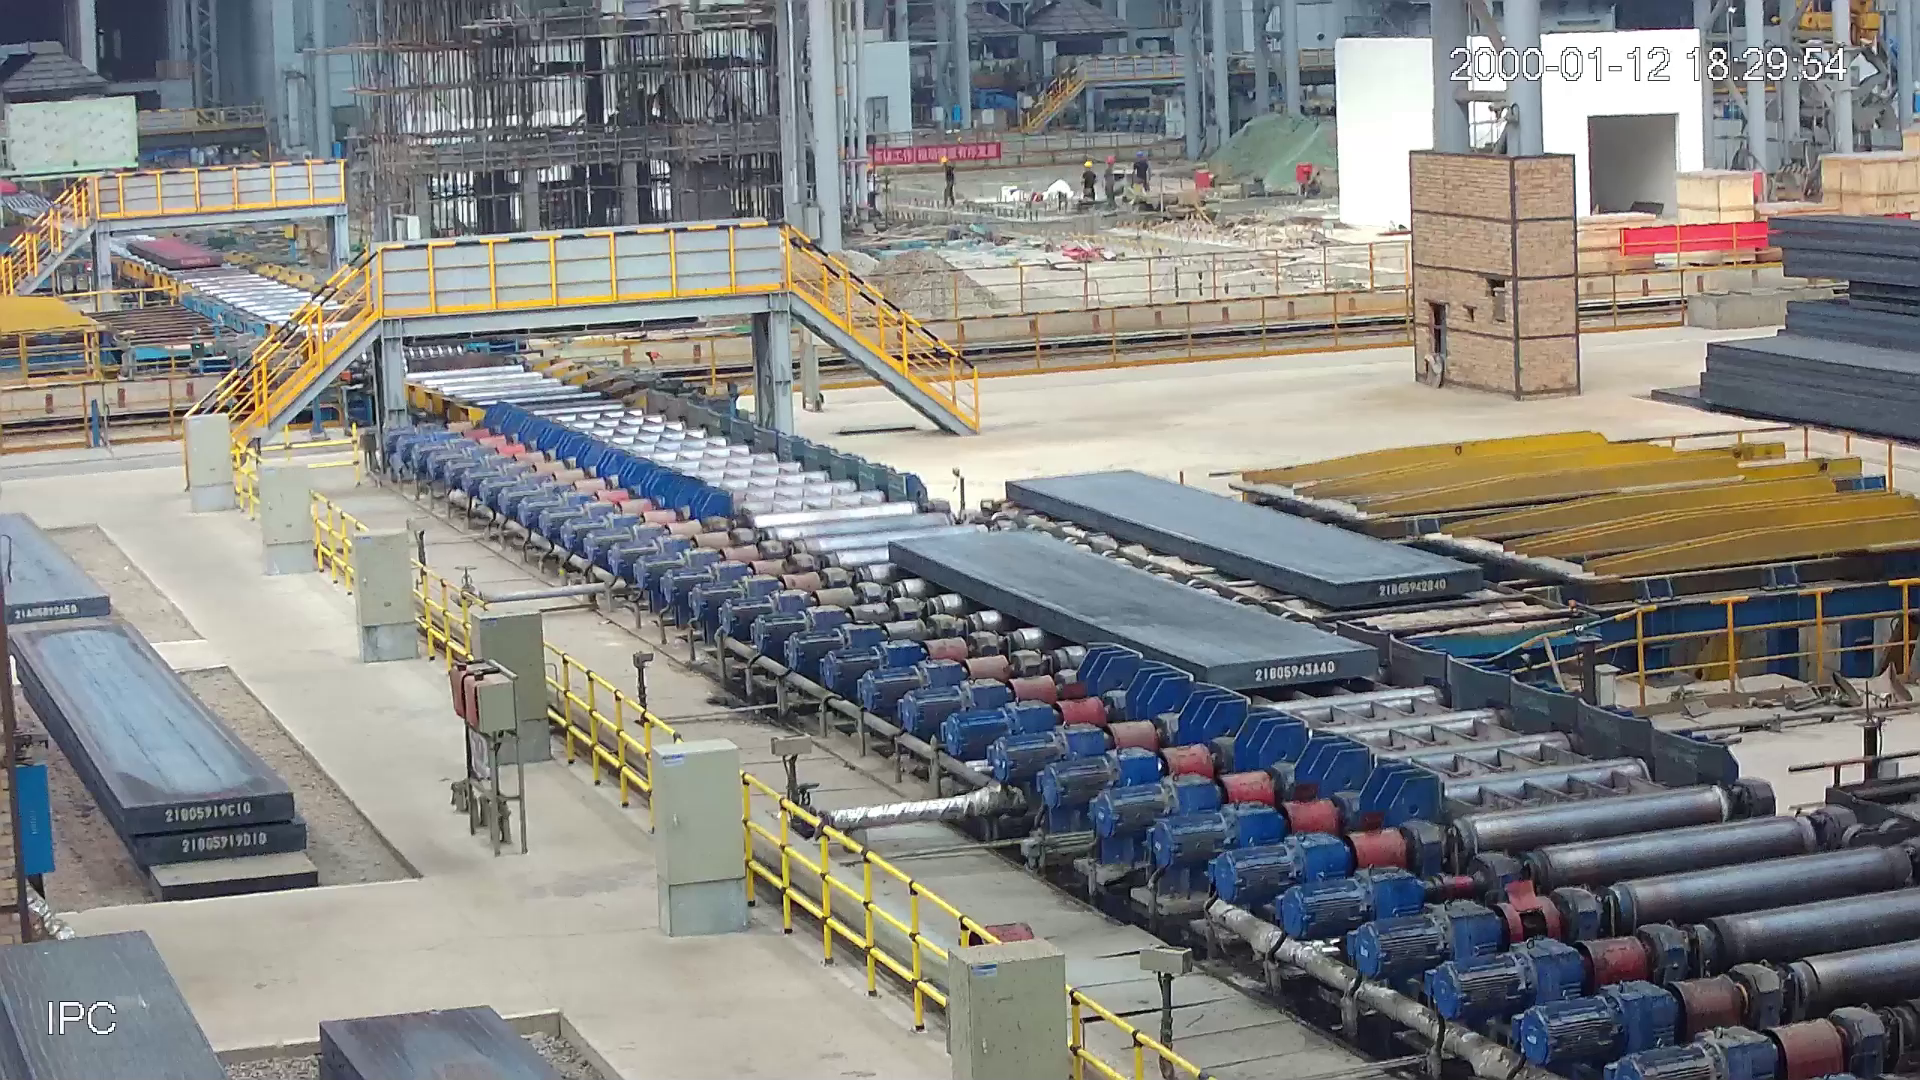slab: (874, 526, 1391, 698), (996, 460, 1494, 607), (121, 236, 229, 274)
